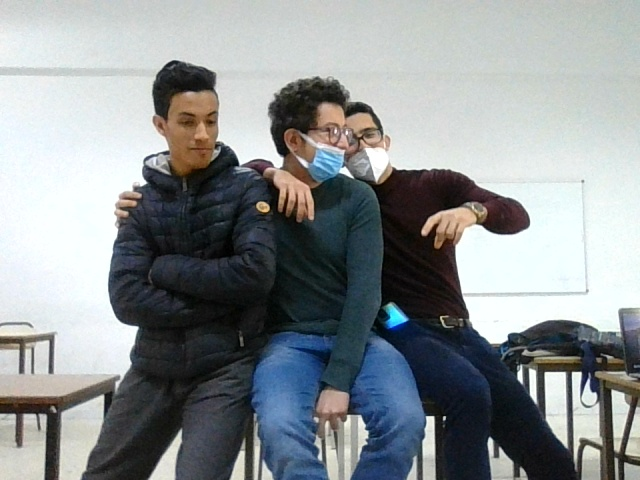mask_weared_incorrect: (265, 74, 347, 188), (348, 106, 400, 186)
without_mask: (147, 59, 227, 171)
